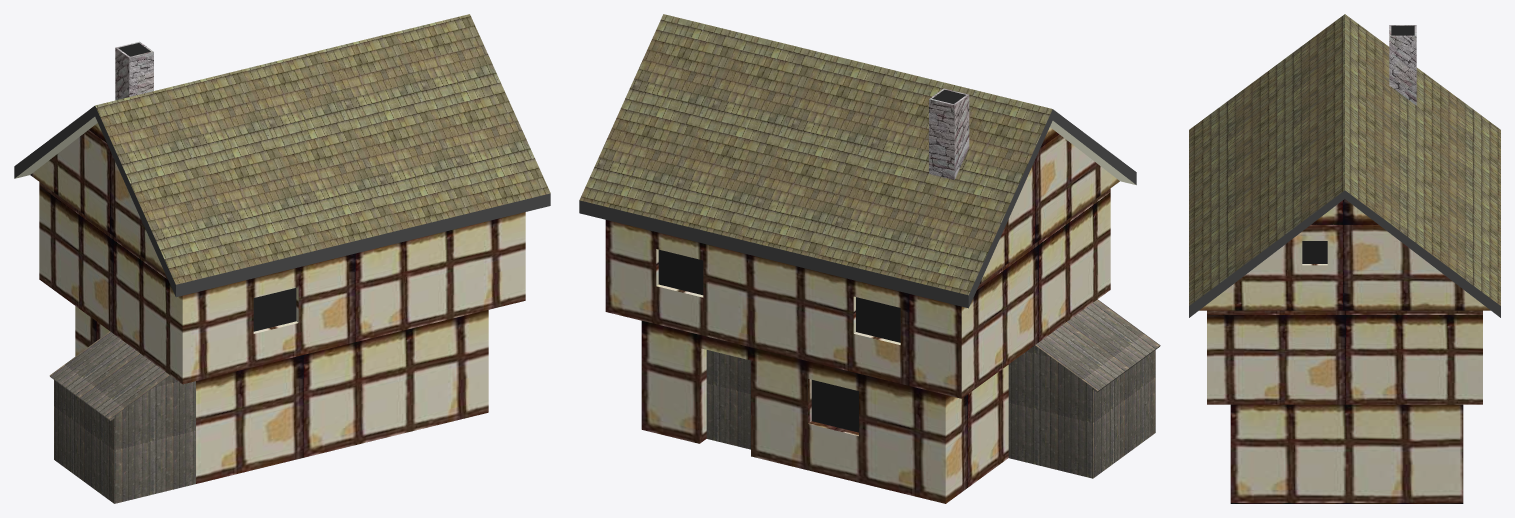
File: farm.dae
3 renders of one model, left to right at view 1: azimuth 30°, elevation 25°; view 2: azimuth 150°, elevation 25°; view 3: azimuth 270°, elevation 25°, orthographic. The views are drawn at different scales.
Visible parts, largest first — view 1: Model, Group1, Group3; view 2: Model, Group1, Group4; view 3: Model, Group1, Group2.
Part boxes in pixels (box(x1,y1,x2,y2)): Model: box(14, 14, 550, 503); Group1: box(115, 41, 153, 100); Group3: box(253, 287, 298, 333); Model: box(579, 14, 1160, 503); Group1: box(929, 88, 969, 179); Group4: box(853, 296, 900, 344); Model: box(1189, 14, 1500, 503); Group1: box(1389, 25, 1416, 105); Group2: box(1302, 241, 1327, 265).
Size of the model in its own units: 10.03 by 6.7 by 8.28.
8 materials, 5 textured.
